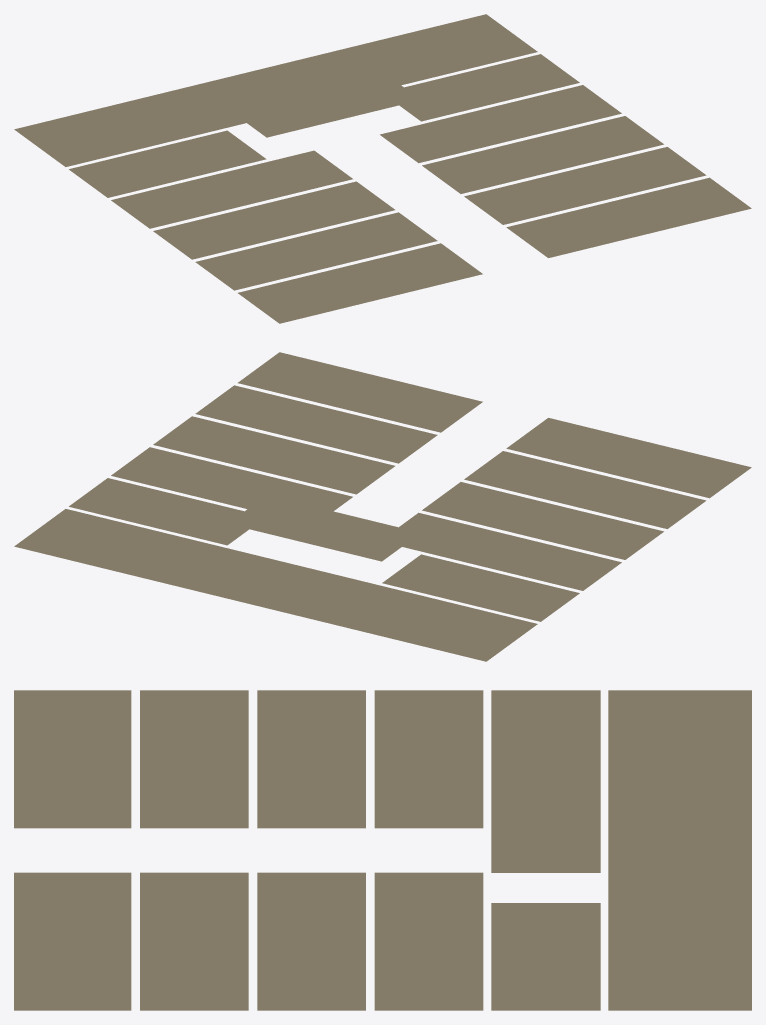
The model's file is StageAndFloor.fbx.
3 renders of one model, top to bottom at view 1: azimuth 30°, elevation 25°; view 2: azimuth 150°, elevation 25°; view 3: azimuth 270°, elevation 25°, orthographic. The views are drawn at different scales.
Parts seen in each view (by area): view 1: polySurface23, polySurface14, polySurface15, polySurface17, polySurface18, polySurface20, polySurface21, polySurface16, polySurface19, polySurface22, polySurface25, polySurface10; view 2: polySurface23, polySurface15, polySurface14, polySurface16, polySurface19, polySurface17, polySurface18, polySurface21, polySurface20, polySurface22, polySurface25, polySurface10; view 3: polySurface23, polySurface14, polySurface15, polySurface20, polySurface21, polySurface16, polySurface17, polySurface18, polySurface19, polySurface10, polySurface25, polySurface22.
Boxes of the visible parts, left/top/right/bottom form: polySurface23: left=14, top=14, right=537, bottom=166; polySurface14: left=238, top=243, right=482, bottom=323; polySurface15: left=506, top=177, right=751, bottom=257; polySurface17: left=195, top=212, right=437, bottom=290; polySurface18: left=153, top=181, right=394, bottom=259; polySurface20: left=380, top=85, right=621, bottom=163; polySurface21: left=111, top=150, right=352, bottom=228; polySurface16: left=464, top=147, right=706, bottom=224; polySurface19: left=422, top=116, right=663, bottom=193; polySurface22: left=69, top=130, right=266, bottom=197; polySurface25: left=228, top=71, right=420, bottom=137; polySurface10: left=399, top=54, right=579, bottom=121; polySurface23: left=14, top=509, right=537, bottom=661; polySurface15: left=238, top=352, right=482, bottom=432; polySurface14: left=506, top=418, right=751, bottom=498; polySurface16: left=195, top=385, right=437, bottom=463; polySurface19: left=153, top=416, right=394, bottom=494; polySurface17: left=464, top=451, right=706, bottom=528; polySurface18: left=422, top=482, right=663, bottom=559; polySurface21: left=399, top=512, right=621, bottom=590; polySurface20: left=111, top=447, right=352, bottom=511; polySurface22: left=382, top=554, right=579, bottom=621; polySurface25: left=228, top=495, right=420, bottom=561; polySurface10: left=69, top=478, right=248, bottom=545; polySurface23: left=608, top=690, right=751, bottom=1010; polySurface14: left=14, top=690, right=131, bottom=828; polySurface15: left=14, top=872, right=131, bottom=1010; polySurface20: left=374, top=872, right=483, bottom=1010; polySurface21: left=374, top=690, right=483, bottom=828; polySurface16: left=140, top=872, right=248, bottom=1010; polySurface17: left=140, top=690, right=248, bottom=828; polySurface18: left=257, top=690, right=365, bottom=828; polySurface19: left=257, top=872, right=365, bottom=1010; polySurface10: left=491, top=903, right=600, bottom=1010; polySurface25: left=491, top=768, right=600, bottom=872; polySurface22: left=491, top=690, right=600, bottom=768.
Bounding box in the file's own units: 194 × 8.45 × 189.
